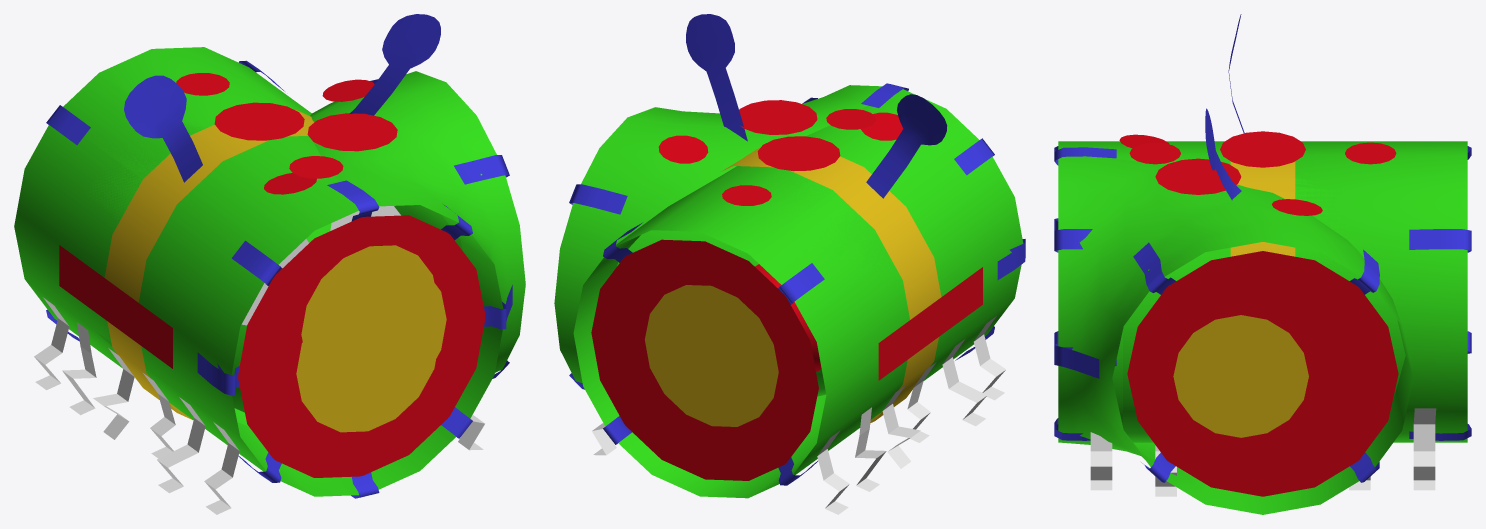
File: caterpillar.fbx
3 renders of one model, left to right at view 1: azimuth 30°, elevation 25°; view 2: azimuth 150°, elevation 25°; view 3: azimuth 270°, elevation 25°, orthographic. The views are drawn at different scales.
Parts seen in each view (by area): view 1: Plane.006, Plane.008, Plane.010, Plane.011, Plane.009; view 2: Plane.006, Plane.011, Plane.008, Plane.009, Plane.010; view 3: Plane.008, Plane.011, Plane.006, Plane.009, Plane.010.
Part boxes in pixels (box(x1,y1,x2,y2)): Plane.006: box(14, 60, 506, 498); Plane.008: box(217, 71, 525, 496); Plane.010: box(231, 181, 472, 482); Plane.011: box(46, 14, 440, 412); Plane.009: box(34, 297, 484, 514); Plane.006: box(573, 83, 1025, 485); Plane.011: box(603, 14, 947, 498); Plane.008: box(554, 85, 1025, 396); Plane.009: box(592, 316, 1005, 514); Plane.010: box(755, 97, 994, 371); Plane.008: box(1054, 134, 1413, 514); Plane.011: box(1205, 14, 1471, 442); Plane.006: box(1054, 131, 1471, 442); Plane.009: box(1090, 408, 1436, 496); Plane.010: box(1054, 146, 1122, 440).
Bounding box in the file's own units: 17.25 × 19.3 × 19.39.
